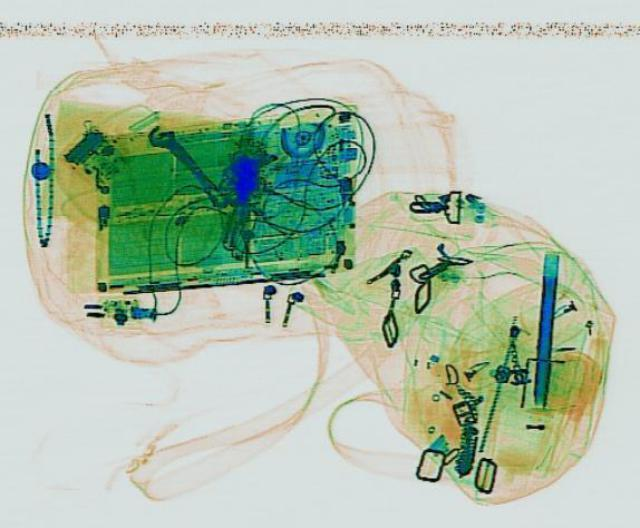Wrench: (138, 119, 235, 212)
